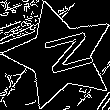N_W: (29, 29, 91, 82)
